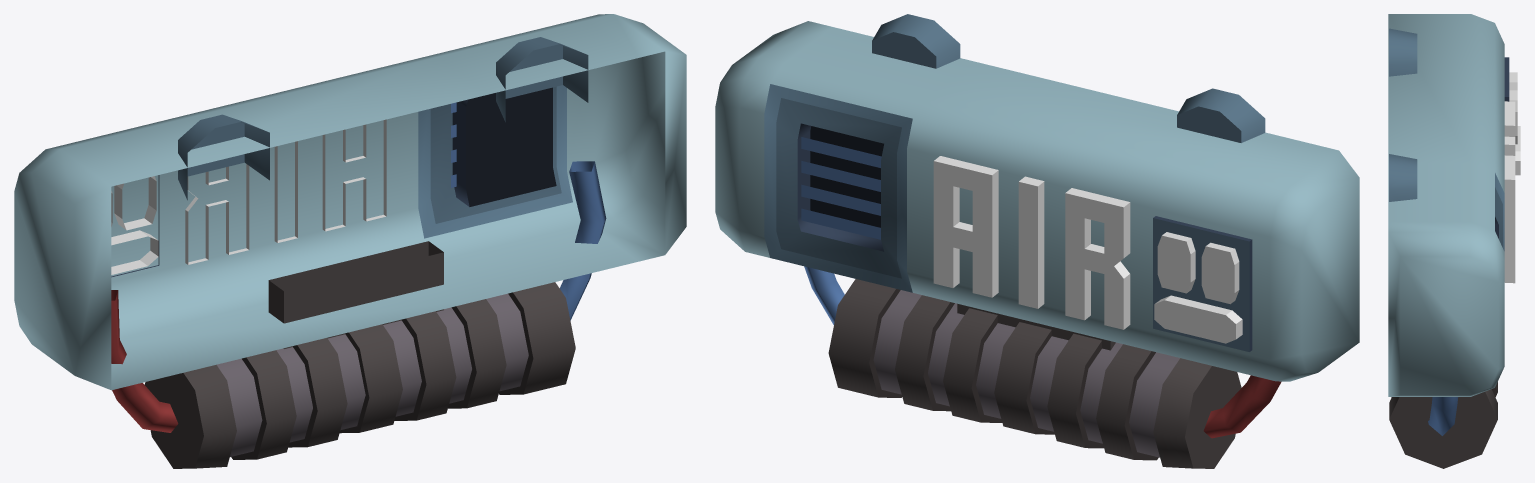
File: AirAlarm.fbx
3 views of the same model, side by side, from view 1: azimuth 30°, elevation 25°; view 2: azimuth 150°, elevation 25°; view 3: azimuth 270°, elevation 25° (orthographic). The views are drawn at different scales.
Visible parts, largest first — view 1: AirAlarm; view 2: AirAlarm; view 3: AirAlarm.
Part boxes in pixels (x1,y1,x2,y2): AirAlarm: (14,14,686,468); AirAlarm: (715,14,1359,468); AirAlarm: (1388,14,1520,468).
Bounding box in the file's own units: 0.7888 × 0.4549 × 0.1826.
